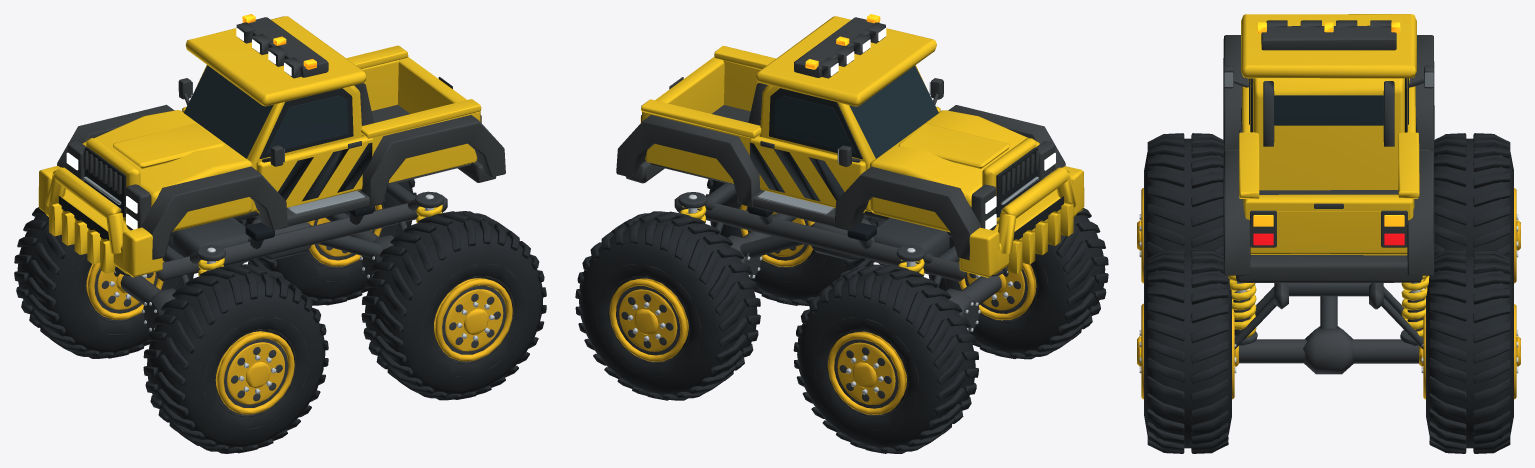
The model's file is DiggerDan.fbx.
3 views of the same model, side by side, from view 1: azimuth 30°, elevation 25°; view 2: azimuth 150°, elevation 25°; view 3: azimuth 270°, elevation 25° (orthographic). The views are drawn at different scales.
Parts seen in each view (by area): view 1: DiggerDan_LOD0_sprung_body_Geometry, DiggerDan_LOD0_FL_Spin_Geometry, DiggerDan_LOD0_RL_Spin_Geometry, DiggerDan_LOD0_FR_Spin_Geometry, DiggerDan_LOD0_RR_Spin_Geometry, DiggerDan_LOD0_FRONT_axle_Geometry, DiggerDan_LOD0_Root_Geometry, DiggerDan_LOD0_REAR_axle_Geometry, DiggerDan_LOD0_FRONT_shock_-1_Geometry, DiggerDan_LOD0_REAR_shock_-1_Geometry; view 2: DiggerDan_LOD0_sprung_body_Geometry, DiggerDan_LOD0_RR_Spin_Geometry, DiggerDan_LOD0_FR_Spin_Geometry, DiggerDan_LOD0_FL_Spin_Geometry, DiggerDan_LOD0_RL_Spin_Geometry, DiggerDan_LOD0_FRONT_axle_Geometry, DiggerDan_LOD0_Root_Geometry, DiggerDan_LOD0_REAR_axle_Geometry, DiggerDan_LOD0_FRONT_shock_1_Geometry, DiggerDan_LOD0_REAR_shock_1_Geometry; view 3: DiggerDan_LOD0_sprung_body_Geometry, DiggerDan_LOD0_RL_Spin_Geometry, DiggerDan_LOD0_RR_Spin_Geometry, DiggerDan_LOD0_FL_Spin_Geometry, DiggerDan_LOD0_FR_Spin_Geometry, DiggerDan_LOD0_REAR_axle_Geometry, DiggerDan_LOD0_Root_Geometry, DiggerDan_LOD0_REAR_shock_1_Geometry, DiggerDan_LOD0_REAR_shock_-1_Geometry.
Boxes of the visible parts, <box> form: DiggerDan_LOD0_sprung_body_Geometry: <box>38,14,505,281</box>; DiggerDan_LOD0_FL_Spin_Geometry: <box>143,264,328,453</box>; DiggerDan_LOD0_RL_Spin_Geometry: <box>361,211,546,400</box>; DiggerDan_LOD0_FR_Spin_Geometry: <box>14,207,193,358</box>; DiggerDan_LOD0_RR_Spin_Geometry: <box>238,179,416,305</box>; DiggerDan_LOD0_FRONT_axle_Geometry: <box>120,275,175,331</box>; DiggerDan_LOD0_Root_Geometry: <box>114,221,406,286</box>; DiggerDan_LOD0_REAR_axle_Geometry: <box>350,230,394,278</box>; DiggerDan_LOD0_FRONT_shock_-1_Geometry: <box>197,245,225,276</box>; DiggerDan_LOD0_REAR_shock_-1_Geometry: <box>415,191,443,222</box>; DiggerDan_LOD0_sprung_body_Geometry: <box>616,14,1084,281</box>; DiggerDan_LOD0_RR_Spin_Geometry: <box>575,211,760,400</box>; DiggerDan_LOD0_FR_Spin_Geometry: <box>793,264,978,453</box>; DiggerDan_LOD0_FL_Spin_Geometry: <box>925,208,1108,359</box>; DiggerDan_LOD0_RL_Spin_Geometry: <box>705,179,884,305</box>; DiggerDan_LOD0_FRONT_axle_Geometry: <box>946,275,1001,332</box>; DiggerDan_LOD0_Root_Geometry: <box>699,218,1008,287</box>; DiggerDan_LOD0_REAR_axle_Geometry: <box>728,231,771,279</box>; DiggerDan_LOD0_FRONT_shock_1_Geometry: <box>896,245,925,275</box>; DiggerDan_LOD0_REAR_shock_1_Geometry: <box>678,192,707,221</box>; DiggerDan_LOD0_sprung_body_Geometry: <box>1223,14,1434,309</box>; DiggerDan_LOD0_RL_Spin_Geometry: <box>1137,249,1238,453</box>; DiggerDan_LOD0_RR_Spin_Geometry: <box>1419,249,1520,453</box>; DiggerDan_LOD0_FL_Spin_Geometry: <box>1137,133,1223,285</box>; DiggerDan_LOD0_FR_Spin_Geometry: <box>1423,133,1520,284</box>; DiggerDan_LOD0_REAR_axle_Geometry: <box>1239,326,1418,374</box>; DiggerDan_LOD0_Root_Geometry: <box>1234,286,1423,349</box>; DiggerDan_LOD0_REAR_shock_1_Geometry: <box>1400,275,1429,344</box>; DiggerDan_LOD0_REAR_shock_-1_Geometry: <box>1228,275,1257,344</box>.
Size of the model in its own units: 535 by 430 by 414.
